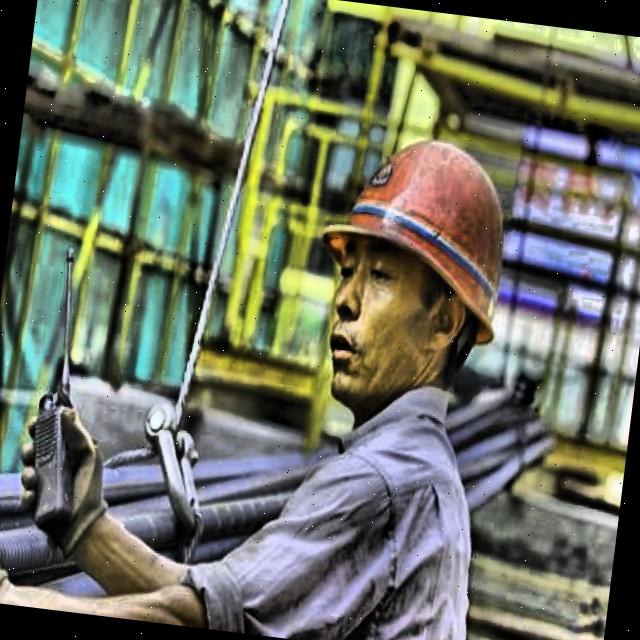helmet: (281, 92, 544, 447)
